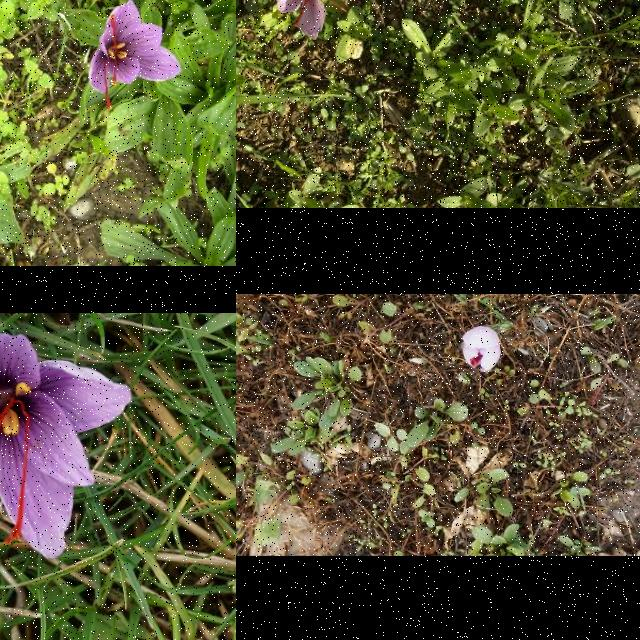flower: (0, 327, 132, 559), (87, 0, 183, 110), (236, 0, 364, 40), (463, 326, 501, 372)
